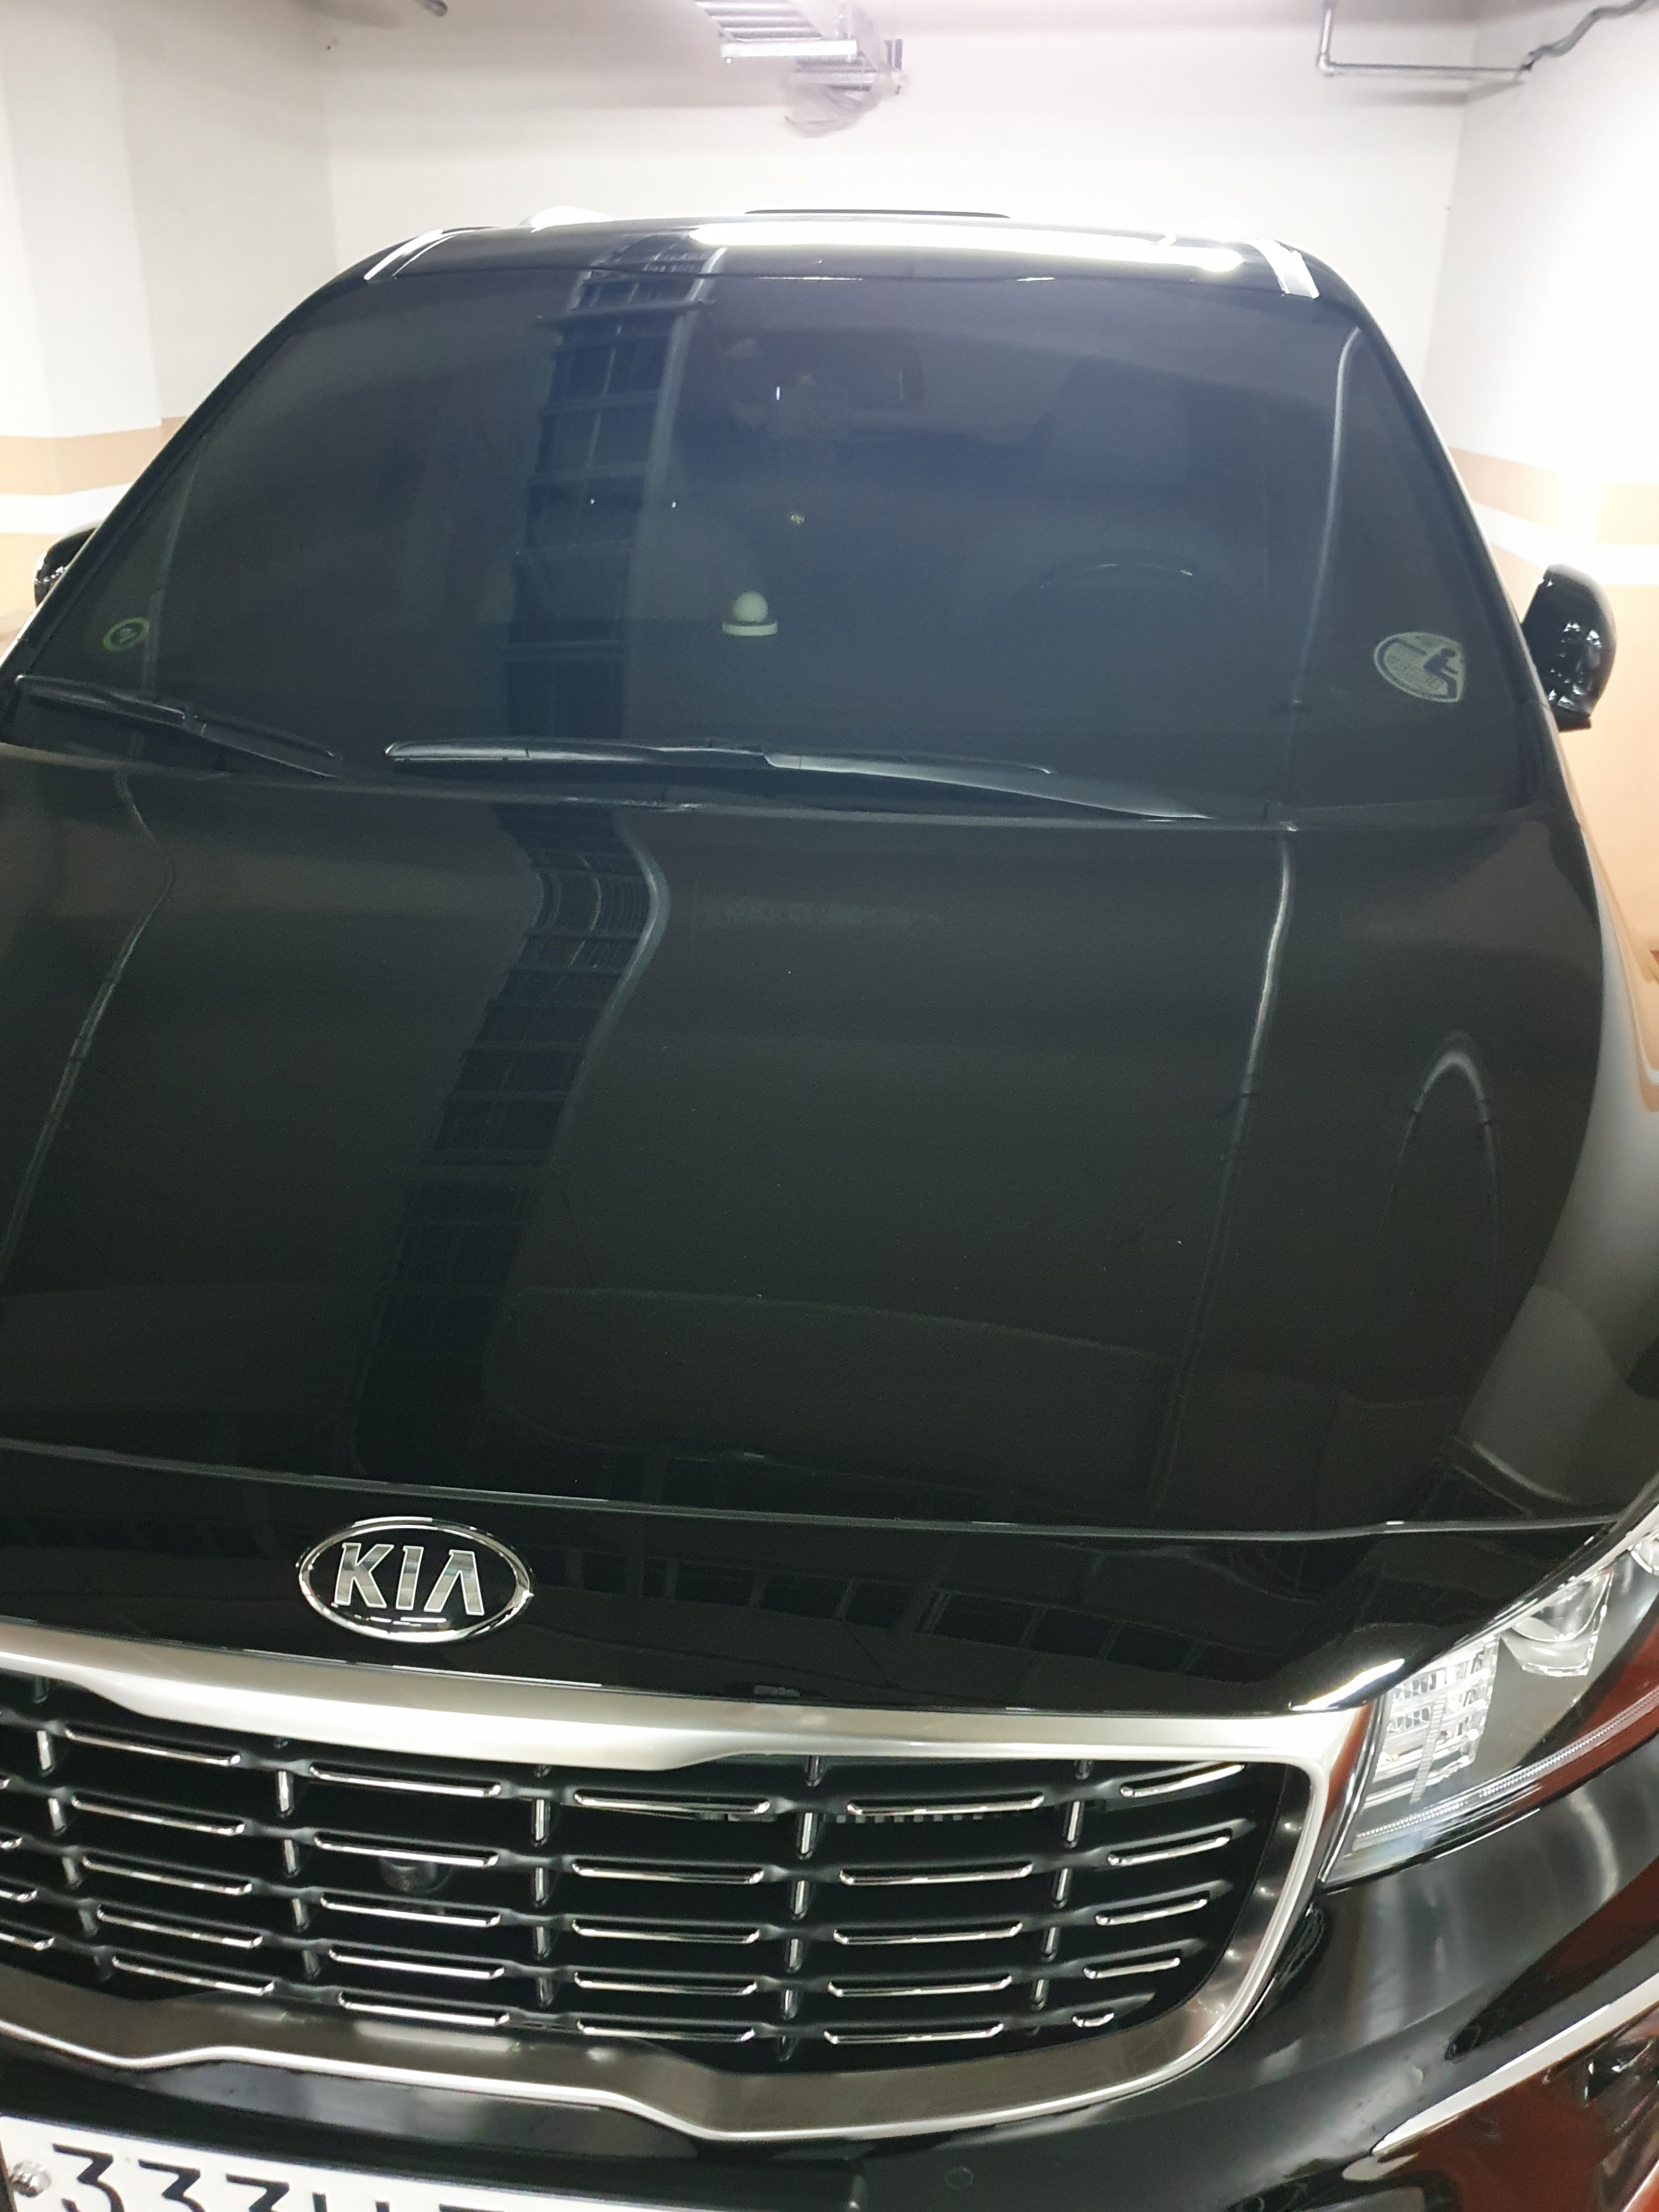apart_parking: (105, 613, 157, 648)
disabled_parking: (1373, 618, 1474, 712)
